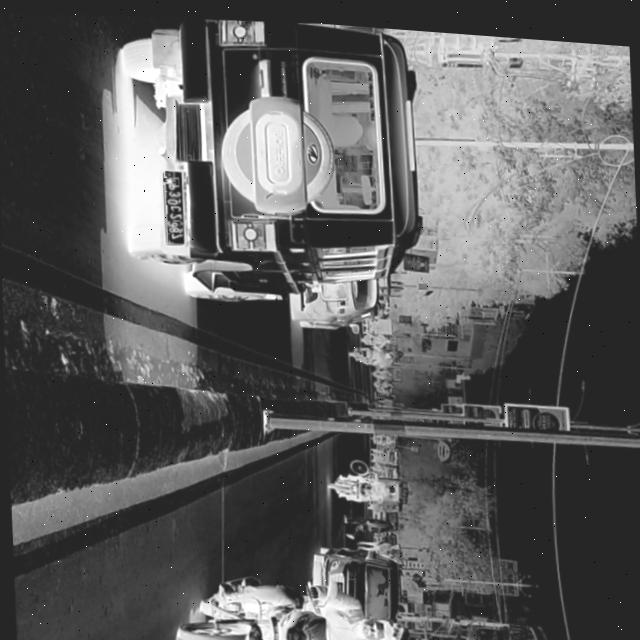0: (165, 195, 177, 202)
2: (165, 211, 177, 217)
3: (164, 188, 176, 195)
6: (165, 218, 177, 224)
7: (166, 231, 178, 237)
8: (166, 224, 178, 231)
C: (165, 203, 177, 210)
IND: (165, 169, 177, 176)
Indian_registered: (162, 168, 182, 241)
M: (161, 175, 178, 183)
P: (164, 182, 176, 188)
